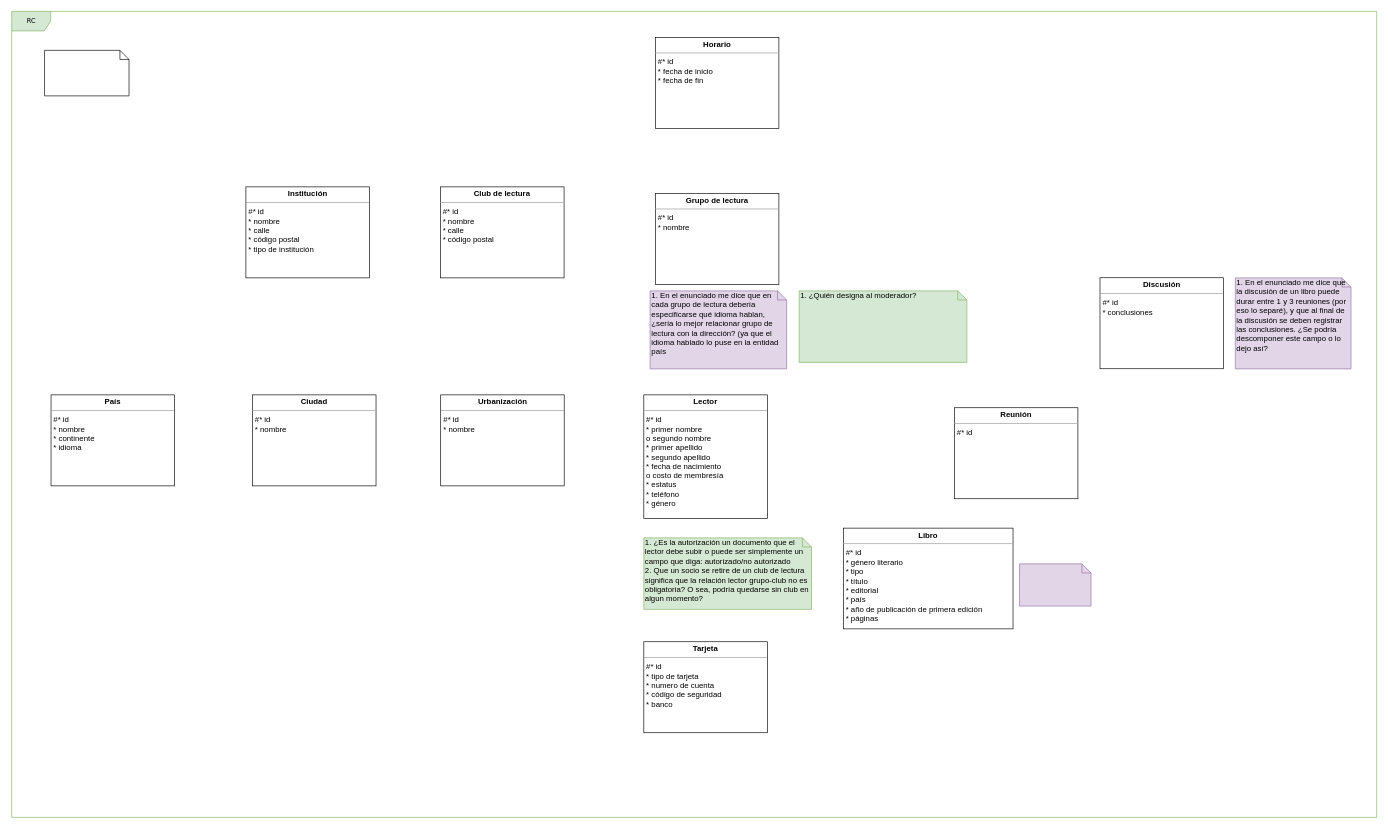
The diagram is 1388 pixels wide and 829 high, and some of its shapes have lost their labels. Here are the shapes that lost their labels. From the top down, the centre of each, then its label:
At (86,73): "Morado = A Verde = L Azul = M Rojo = Relaciones".
At (1055,584): "1. ¿Podría ser la estructura del libro otra entidad?".
